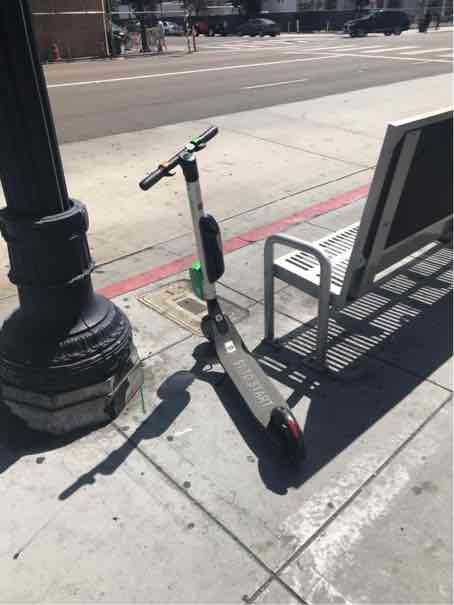scooter: (132, 115, 308, 491)
